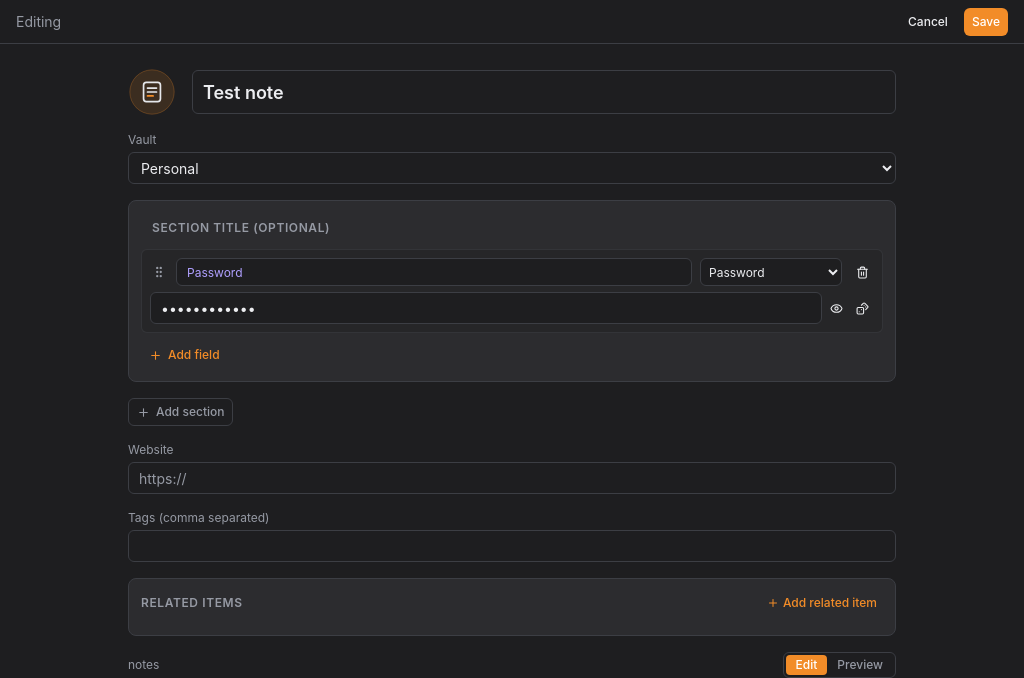
Test: Item editor generator popover › opens the popover via the dice button and applies with Use password
Click the button named "Generate password" at (863, 308), box [852,296,874,320]
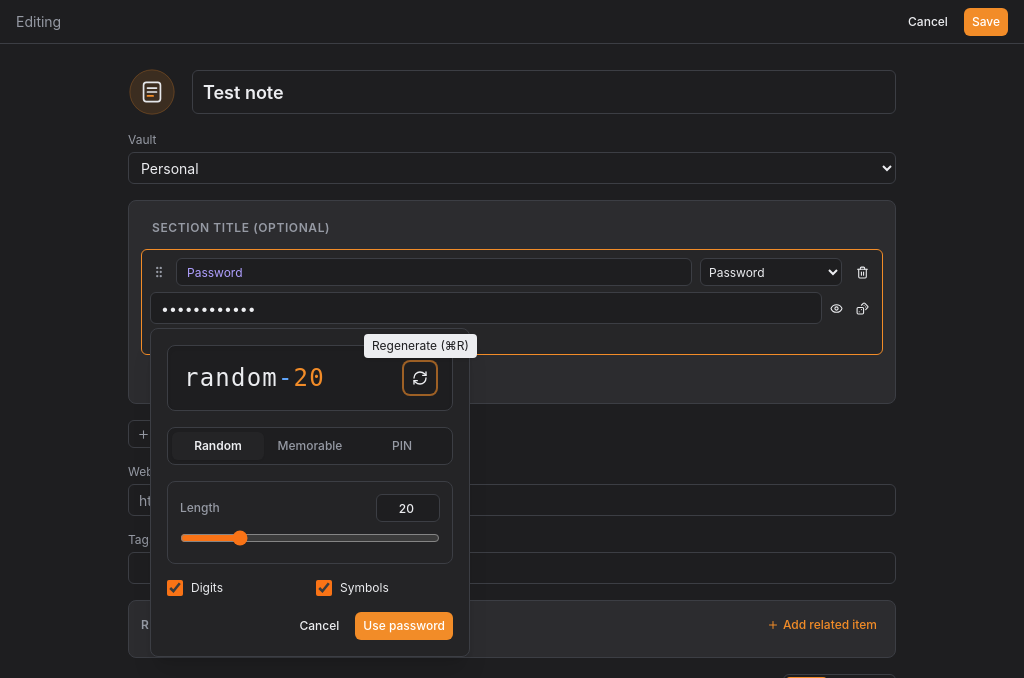
Now the dialog named "Password Generator" is shown, box [150,328,470,657]
Now the picture with test id "colored-password" reads "random-20", box [184,362,325,394]
Click the button "Use password" at (404, 626), box [355,612,453,640]
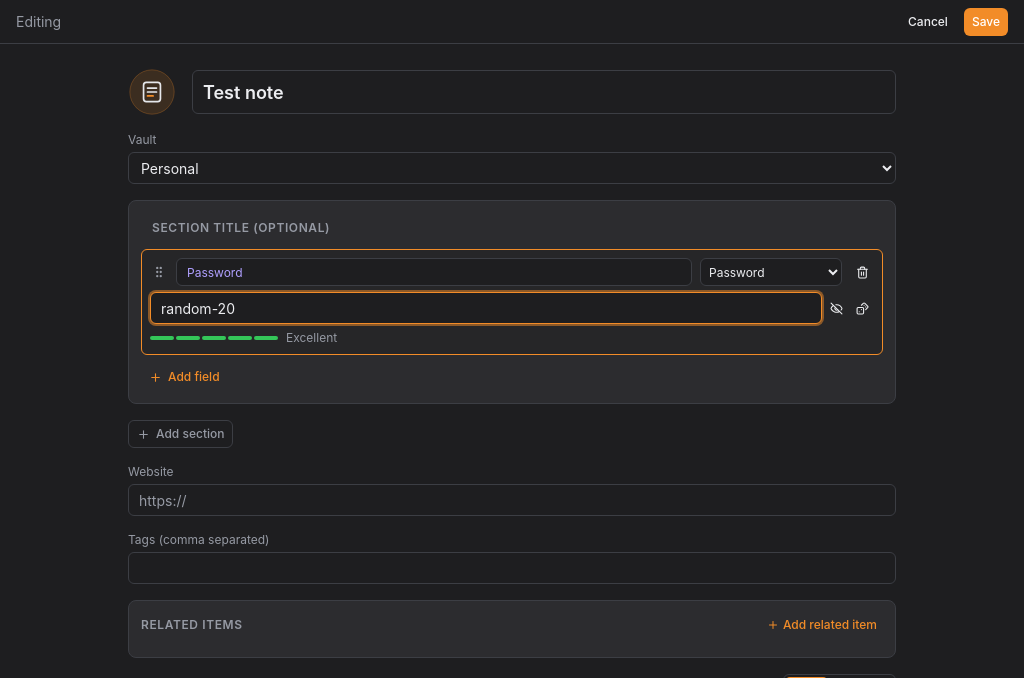
Now the field named "Password value" holds "random-20", box [150,292,822,324]
